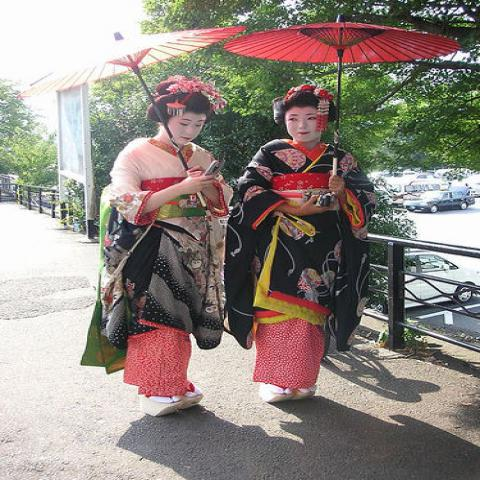car: (403, 248, 479, 309), (403, 186, 476, 214), (407, 173, 427, 180)
